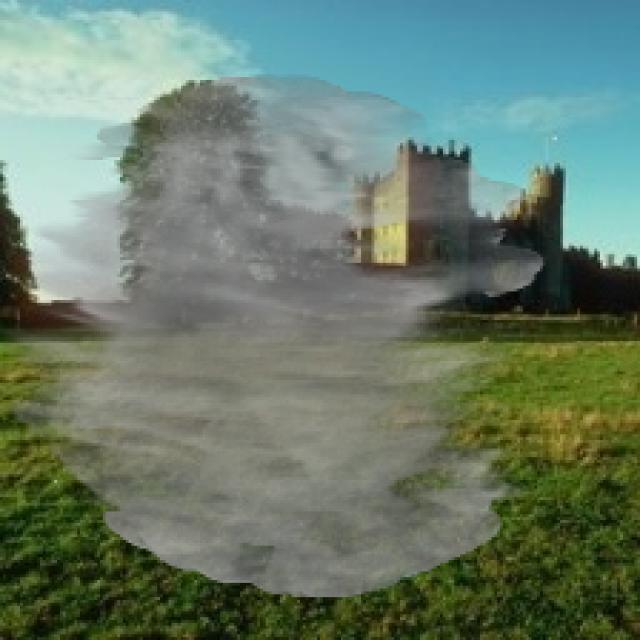Smoke: (3, 74, 546, 597)
